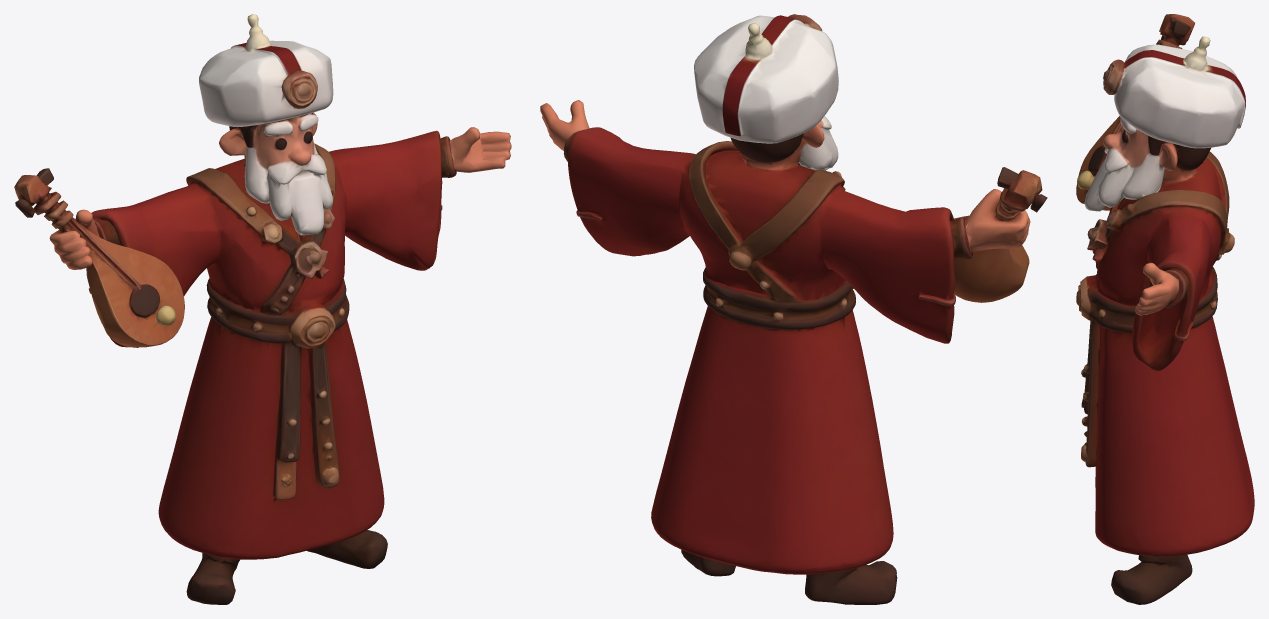
The model's file is comp_korkut.glb.
3 views of the same model, side by side, from view 1: azimuth 30°, elevation 25°; view 2: azimuth 150°, elevation 25°; view 3: azimuth 270°, elevation 25° (orthographic). The views are drawn at different scales.
Parts seen in each view (by area): view 1: tripo_node_2cf831c0-9d9f-40f2-b371-17ce405d6614; view 2: tripo_node_2cf831c0-9d9f-40f2-b371-17ce405d6614; view 3: tripo_node_2cf831c0-9d9f-40f2-b371-17ce405d6614.
Boxes of the visible parts, x1=… form: tripo_node_2cf831c0-9d9f-40f2-b371-17ce405d6614: x1=14, y1=14, x2=511, y2=604; tripo_node_2cf831c0-9d9f-40f2-b371-17ce405d6614: x1=540, y1=14, x2=1047, y2=604; tripo_node_2cf831c0-9d9f-40f2-b371-17ce405d6614: x1=1076, y1=14, x2=1254, y2=604.
Size of the model in its own units: 0.9348 by 1 by 0.3086.
Materials: 1 (1 with a texture image).
